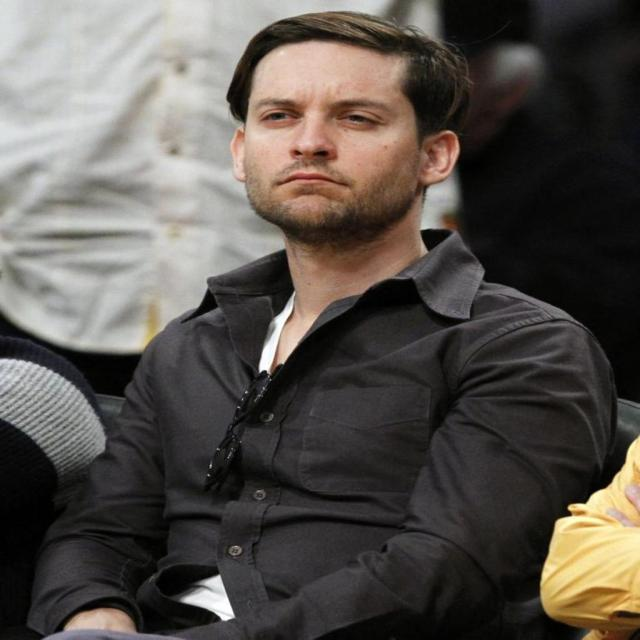Face: (239, 38, 435, 242)
